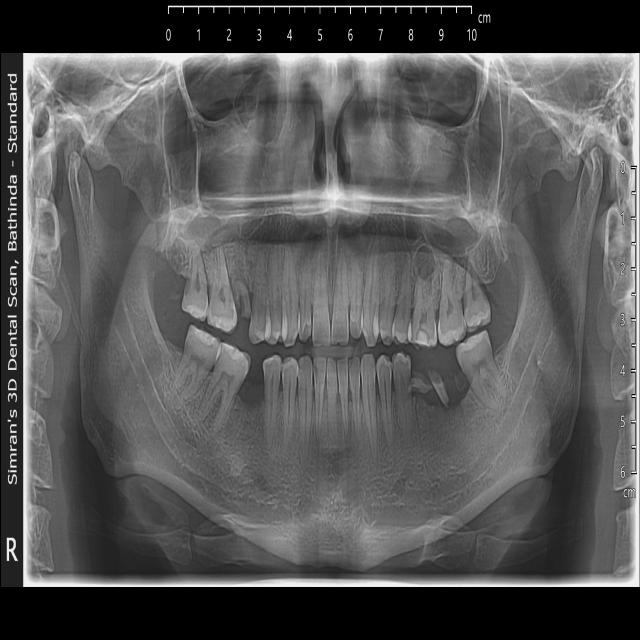Caries: (463, 284, 491, 328), (182, 279, 206, 319), (314, 357, 327, 385)
Filling: (406, 305, 436, 348), (215, 342, 247, 381), (185, 329, 215, 365), (208, 296, 236, 328)
Missing teeth: (236, 382, 264, 439)
Periapical lesion: (412, 245, 435, 281)
Root Piece: (429, 372, 451, 411), (233, 280, 253, 316), (409, 378, 429, 392), (455, 376, 467, 393)
